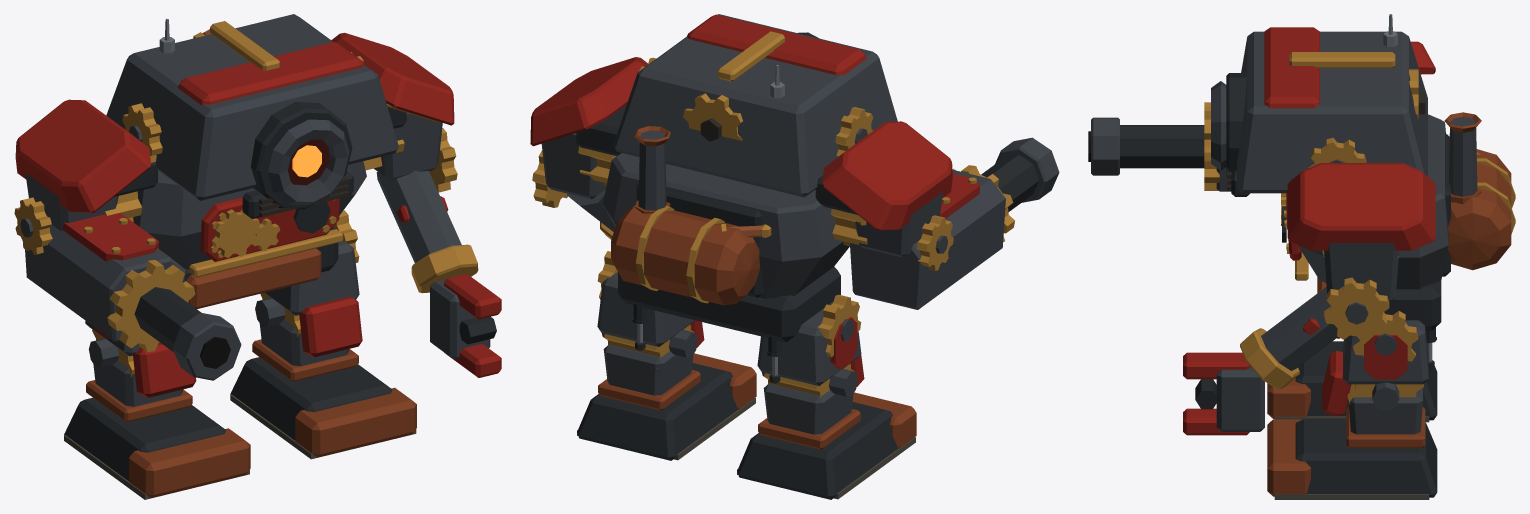
Rendered from tinker_cog.fbx.
The picture shows the model from 3 angles, left to right: view 1: azimuth 30°, elevation 25°; view 2: azimuth 150°, elevation 25°; view 3: azimuth 270°, elevation 25°; orthographic projection. The views are drawn at different scales.
Visible parts, largest first — view 1: Head, Body, Arm_R, Leg_L_Lower, Leg_R_Lower, Arm_L, Leg_L_Upper, Eye; view 2: Body, Head, Arm_R, Leg_R_Lower, Leg_L_Lower, Arm_L, Leg_R_Upper, Leg_L_Upper; view 3: Head, Body, Leg_L_Lower, Arm_L, Arm_R, Leg_L_Upper, Leg_R_Lower.
Boxes of the visible parts, x1,y1,x2,y2 form: Head: (106,14,398,218); Body: (15,29,454,308); Arm_R: (14,173,241,380); Leg_L_Lower: (230,293,416,459); Leg_R_Lower: (64,329,250,499); Arm_L: (363,113,501,377); Leg_L_Upper: (264,241,359,315); Eye: (292,145,321,177); Body: (530,57,952,357); Head: (613,14,897,197); Arm_R: (831,137,1059,309); Leg_R_Lower: (737,355,916,499); Leg_L_Lower: (577,320,756,460); Arm_L: (532,133,616,239); Leg_R_Upper: (757,301,861,385); Leg_L_Upper: (597,272,695,350); Head: (1211,14,1427,196); Body: (1281,41,1515,361); Leg_L_Lower: (1267,350,1437,499); Arm_L: (1183,243,1398,435); Arm_R: (1088,102,1231,191); Leg_L_Upper: (1342,320,1436,384); Leg_R_Lower: (1267,337,1437,422).
Size of the model in its own units: 4.76 by 4.54 by 4.43.
Materials: 10 (8 with a texture image).
